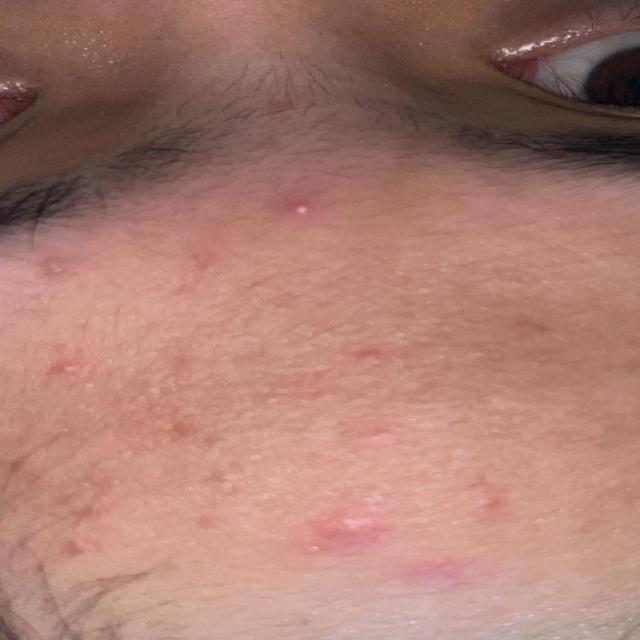papule: (281, 462, 574, 609)
pustule: (269, 186, 321, 229), (40, 352, 92, 389)
